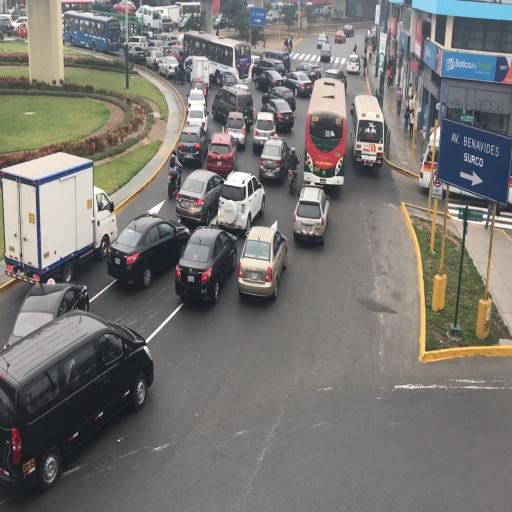auto: (0, 307, 152, 496), (108, 214, 190, 288), (5, 281, 89, 347), (175, 224, 237, 303), (236, 224, 286, 301), (175, 167, 226, 229), (216, 171, 265, 235), (292, 184, 328, 246), (258, 134, 292, 185), (211, 86, 252, 128), (176, 122, 208, 166), (206, 132, 237, 174), (260, 96, 294, 131), (252, 111, 277, 152), (224, 111, 248, 149), (254, 69, 286, 95), (285, 70, 313, 98), (185, 104, 209, 136), (255, 56, 286, 80), (293, 62, 320, 84), (188, 76, 208, 104), (158, 55, 180, 80), (166, 42, 185, 70), (127, 42, 149, 65), (146, 48, 164, 71), (334, 68, 347, 92), (346, 52, 360, 74), (146, 38, 164, 54), (10, 16, 28, 32), (116, 0, 136, 13), (212, 13, 228, 29), (0, 14, 14, 32), (320, 44, 331, 62), (317, 33, 328, 48), (334, 30, 346, 43), (343, 24, 354, 37), (271, 12, 279, 23)
bus: (2, 150, 100, 284), (351, 93, 385, 176), (184, 54, 210, 88), (159, 4, 181, 30)
camion: (168, 165, 182, 200), (284, 36, 291, 52)
moto: (304, 77, 346, 189), (184, 32, 246, 86), (63, 10, 121, 53), (135, 4, 163, 34), (176, 0, 202, 26), (62, 0, 92, 14)
